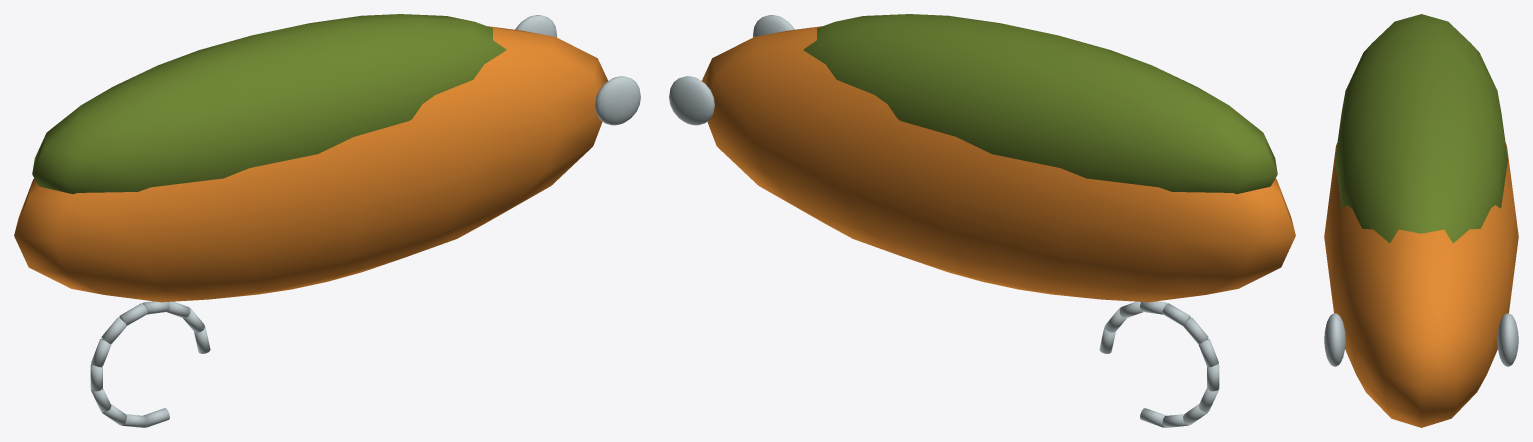
Rendered from SM_Popper.fbx.
3 renders of one model, left to right at view 1: azimuth 30°, elevation 25°; view 2: azimuth 150°, elevation 25°; view 3: azimuth 270°, elevation 25°, orthographic. The views are drawn at different scales.
Visible parts, largest first — view 1: SM_Popper; view 2: SM_Popper; view 3: SM_Popper.
Boxes of the visible parts, box(x1,y1,x2,y2) form: SM_Popper: box(14, 14, 640, 427); SM_Popper: box(669, 14, 1295, 427); SM_Popper: box(1324, 14, 1518, 427).
Bounding box in the file's own units: 6.6 × 1.8 × 3.76.
